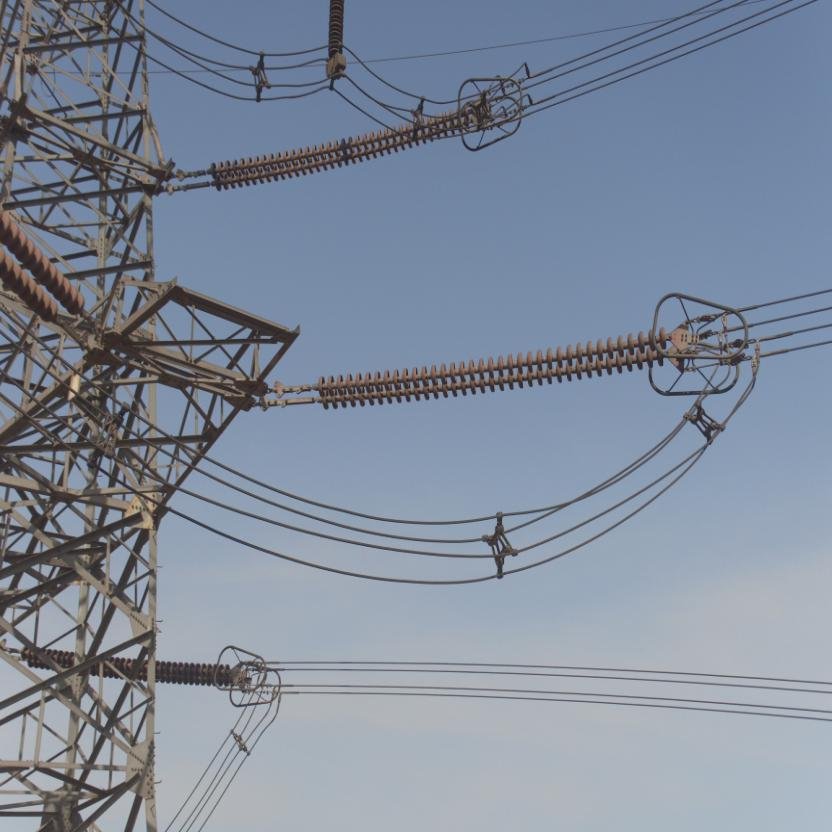insulator: (297, 323, 677, 410), (197, 103, 470, 194), (13, 644, 230, 688)
